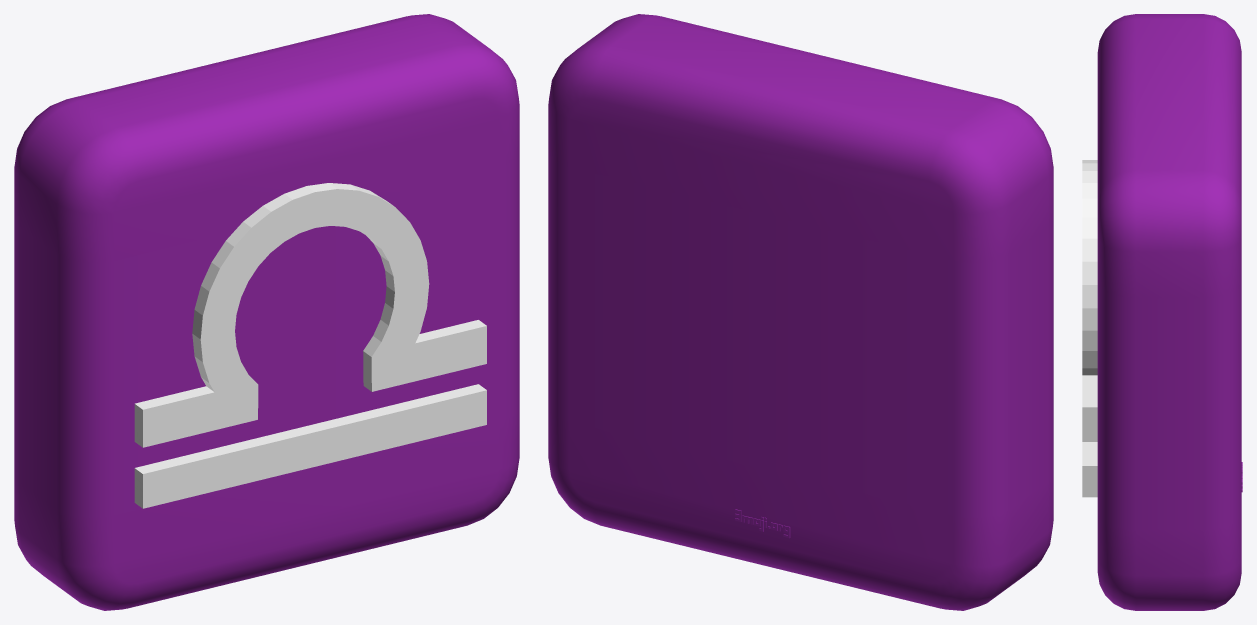
File: libra.fbx
3 renders of one model, left to right at view 1: azimuth 30°, elevation 25°; view 2: azimuth 150°, elevation 25°; view 3: azimuth 270°, elevation 25°, orthographic. The views are drawn at different scales.
Visible parts, largest first — view 1: Cube.6405; view 2: Cube.6405; view 3: Cube.6405.
Part boxes in pixels (left/top/right/bottom): Cube.6405: left=14, top=14, right=519, bottom=610; Cube.6405: left=548, top=14, right=1053, bottom=610; Cube.6405: left=1082, top=14, right=1242, bottom=610.
Size of the model in its own units: 220 by 220 by 73.37.
Materials: 1 (1 with a texture image).
